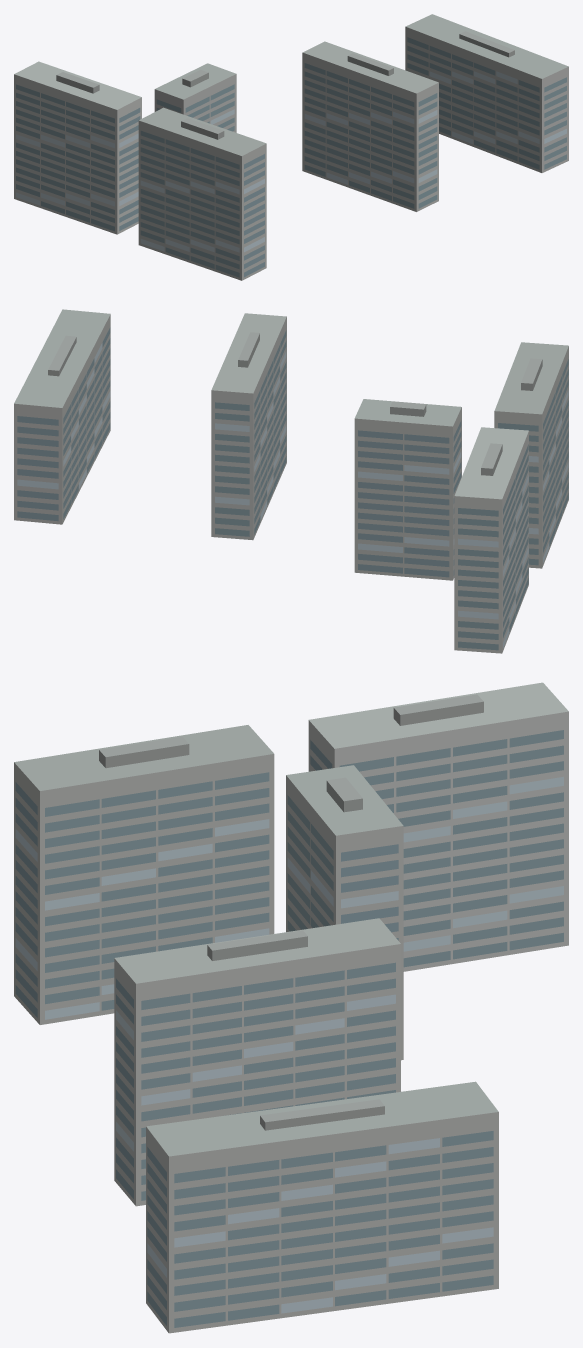
File: apt-a15809001.glb
3 views of the same model, one above another, from view 1: azimuth 30°, elevation 25°; view 2: azimuth 150°, elevation 25°; view 3: azimuth 270°, elevation 25° (orthographic). The views are drawn at different scales.
Visible parts, largest first — view 1: apt-a15809001; view 2: apt-a15809001; view 3: apt-a15809001.
Boxes of the visible parts, left/top/right/bottom form: apt-a15809001: left=14, top=14, right=568, bottom=280; apt-a15809001: left=14, top=309, right=568, bottom=653; apt-a15809001: left=14, top=682, right=568, bottom=1333.
Bounding box in the file's own units: 150 × 41 × 84.16.
